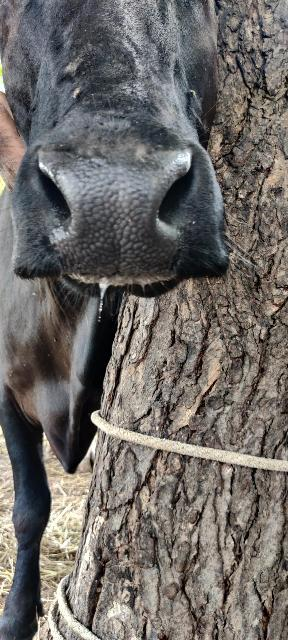Muzzle: (44, 161, 176, 271)
